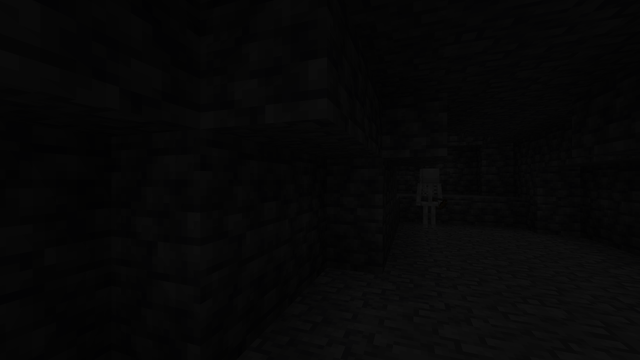squelettes: (419, 168, 439, 229)
